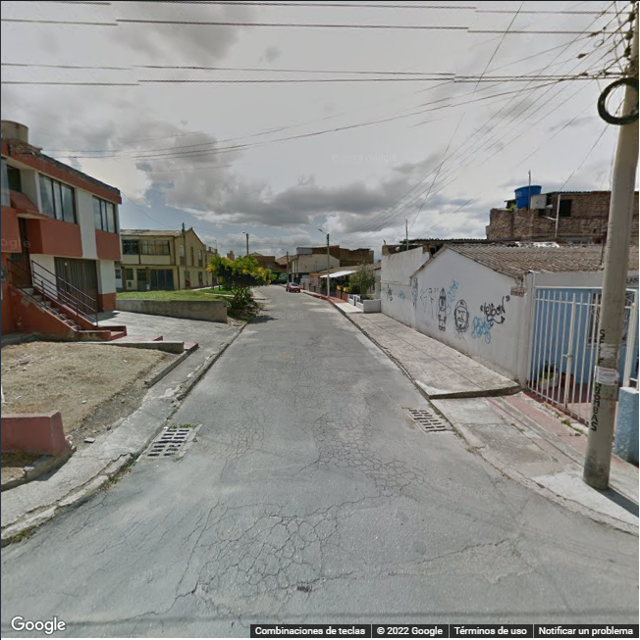D00: (174, 491, 220, 600), (335, 500, 344, 548)
D10: (424, 539, 517, 562)
D20: (210, 511, 321, 606), (315, 416, 416, 490)
